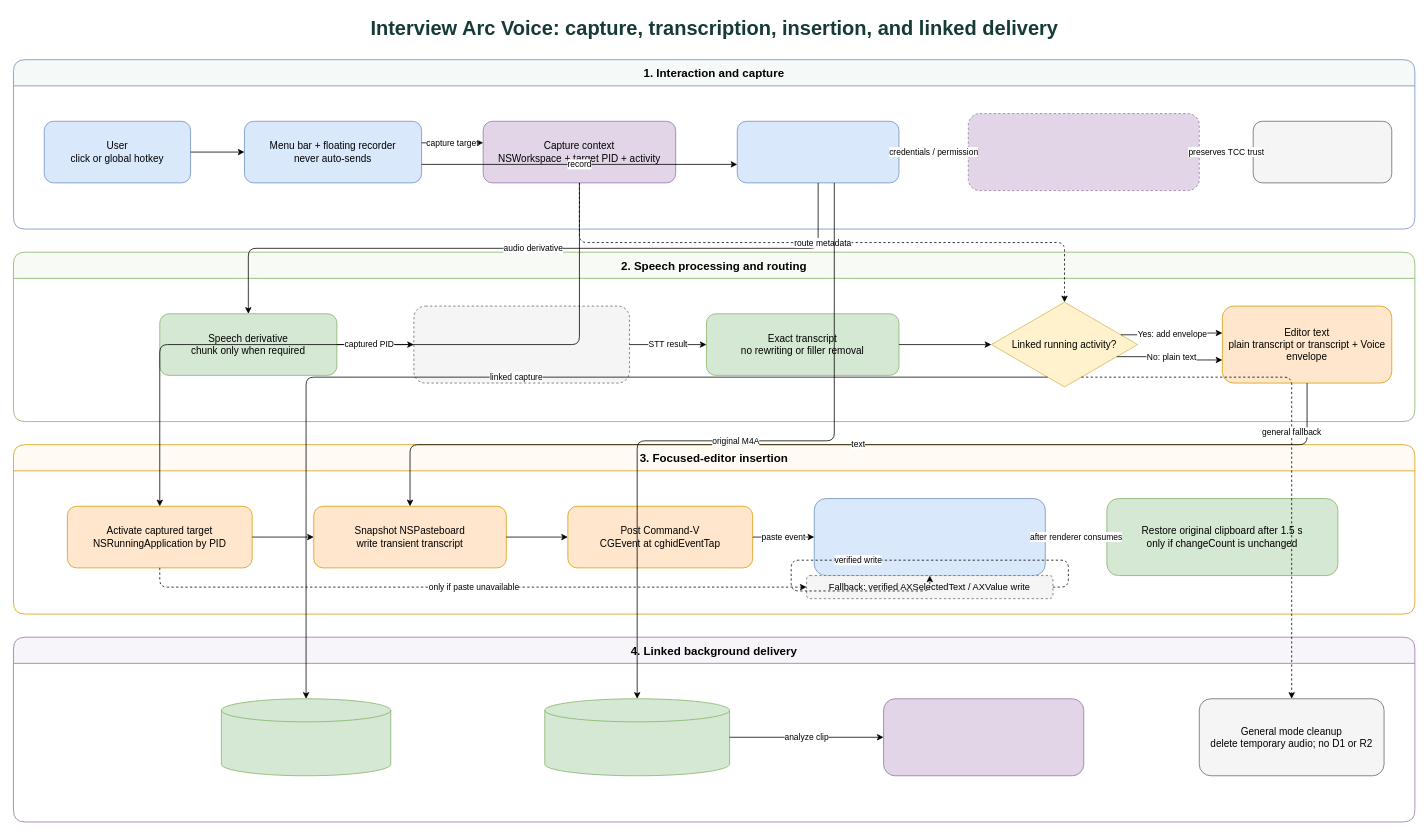
This 1428x835 diagram has some shape labels left out. Each missing label, with the centre of its shape:
"AudioRecorder continuous M4A" goes at point (818, 152).
"Chromium / Electron / AppKit editor DOM and model receive normal paste events" goes at point (929, 537).
"D1 transcript turn idempotent turnId" goes at point (306, 737).
"Delivery Coach attempt-specific speaking evidence" goes at point (983, 737).
"Groq Speech-to-Text whisper-large-v3 + vocabulary prompt" goes at point (521, 344).
"Private R2 audio authenticated playback only" goes at point (637, 737).
"Security prerequisites Keychain credentials + TCC Accessibility" goes at point (1083, 152).
"Stable app identity bundle ID + designated requirement" goes at point (1322, 152).
